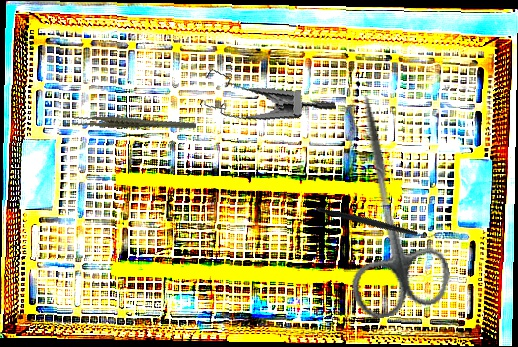Chopper: (316, 168, 440, 275)
Iris Scissors: (313, 86, 456, 323)
Speculum: (193, 45, 337, 138)
Tissue Forceps: (70, 94, 197, 153)
